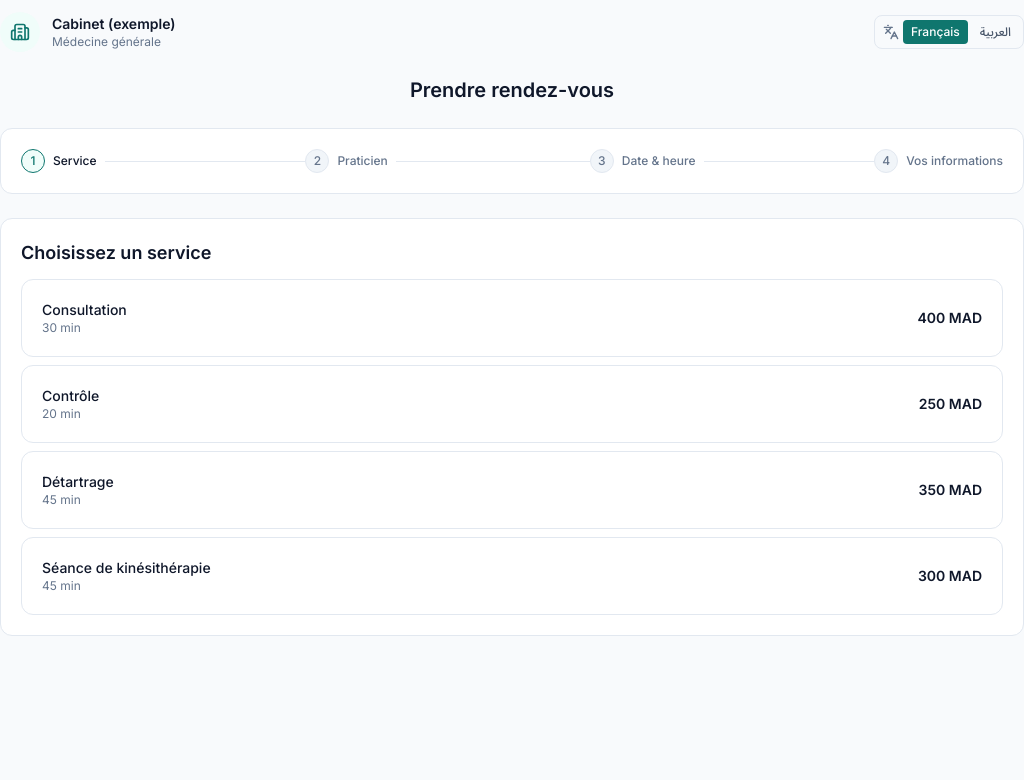
Test case: PublicBookingPage — calendar & slots (task §33-40) › marks the real weekly-closed Sunday (2026-08-23) as disabled with a safe reason, never color-only
What coordinates should you click on to do the following:
click the button "Consultation 30 min 400 MAD"
I would click on:
 (512, 318)
Its box is [21,279,1003,357].
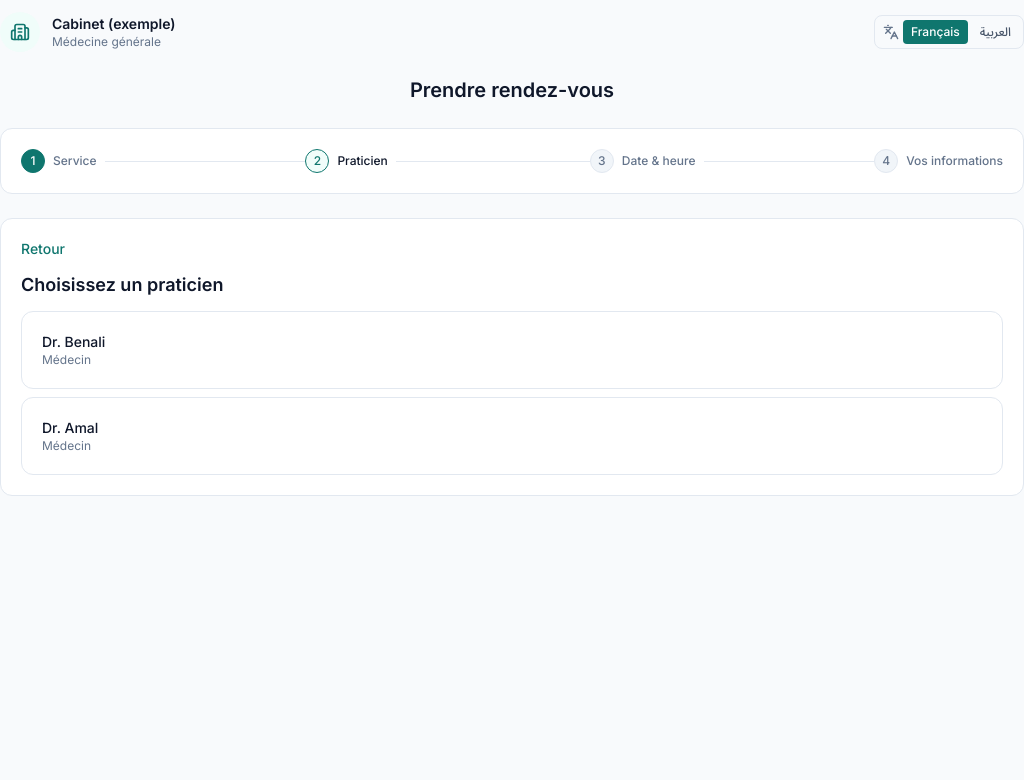
What coordinates should you click on to do the following:
click the button "Dr. Benali Médecin"
I would click on:
 (512, 350)
Its box is [21,311,1003,389].
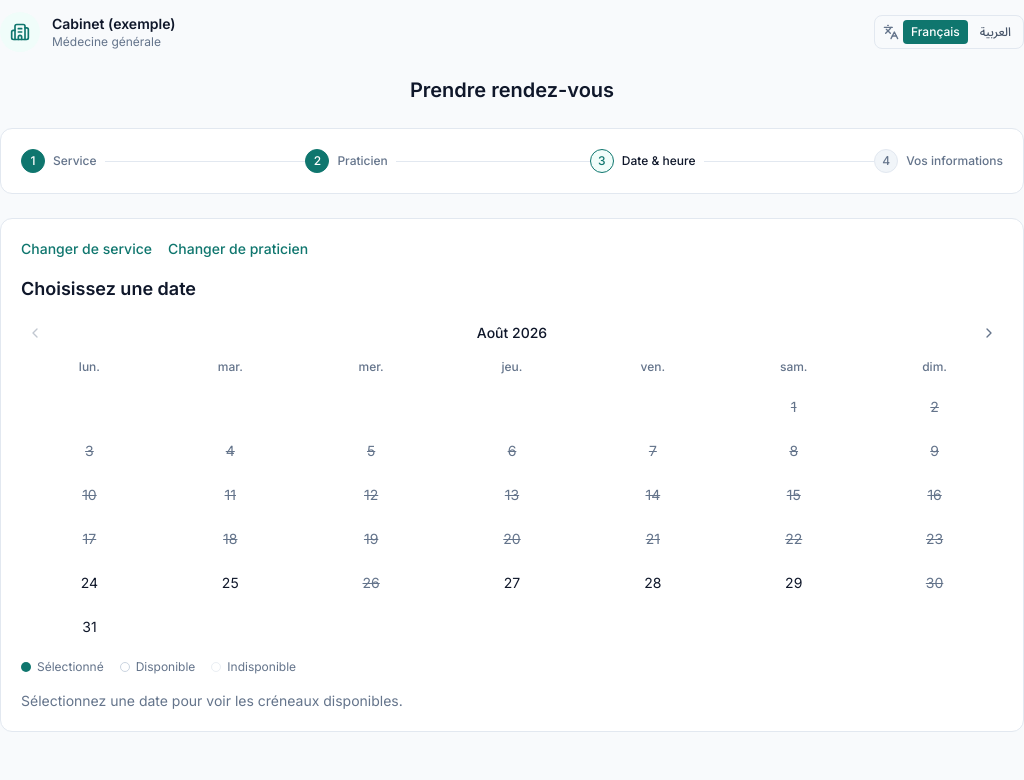
Check: the button named "23 —" is disabled, box [866,519,1003,559]
